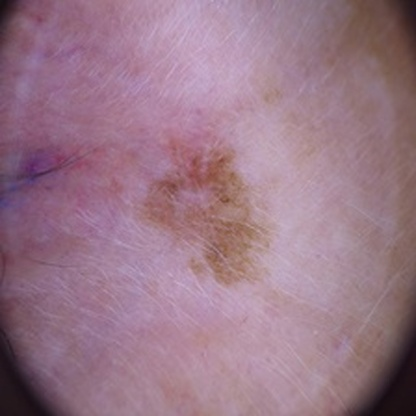malignant: (147, 157, 253, 273), (1, 154, 100, 257)
